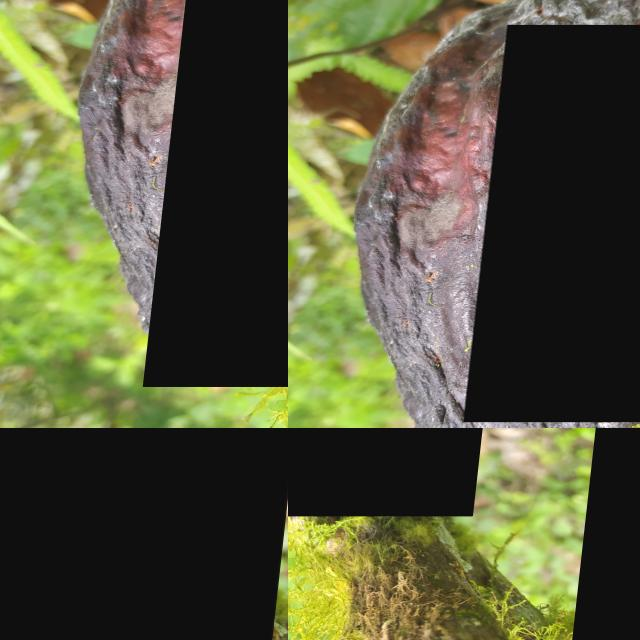Fitoftora: (474, 24, 640, 422), (155, 0, 288, 386), (288, 428, 528, 516)
Monilia: (0, 428, 288, 640)
